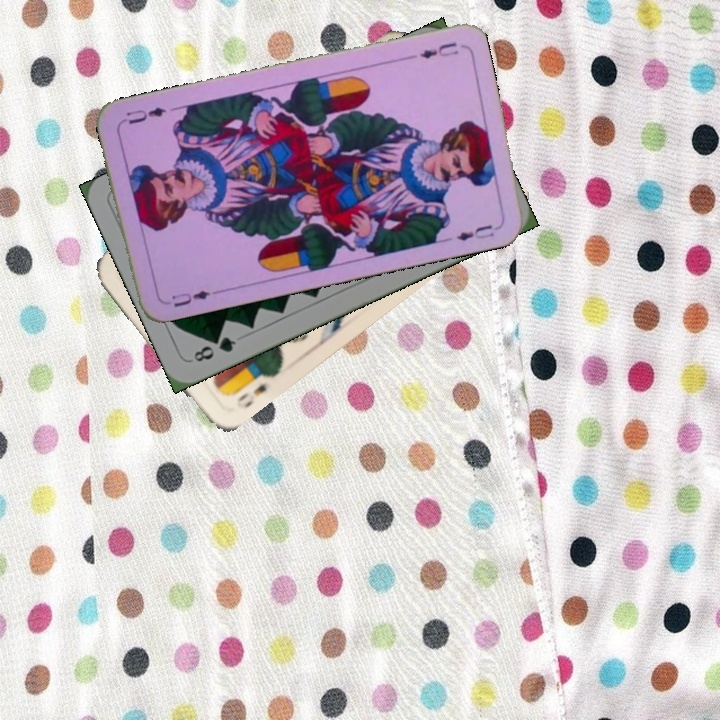EO: (232, 378, 270, 411)
EU: (167, 286, 213, 310), (415, 38, 461, 62)
G8: (187, 332, 239, 365)
